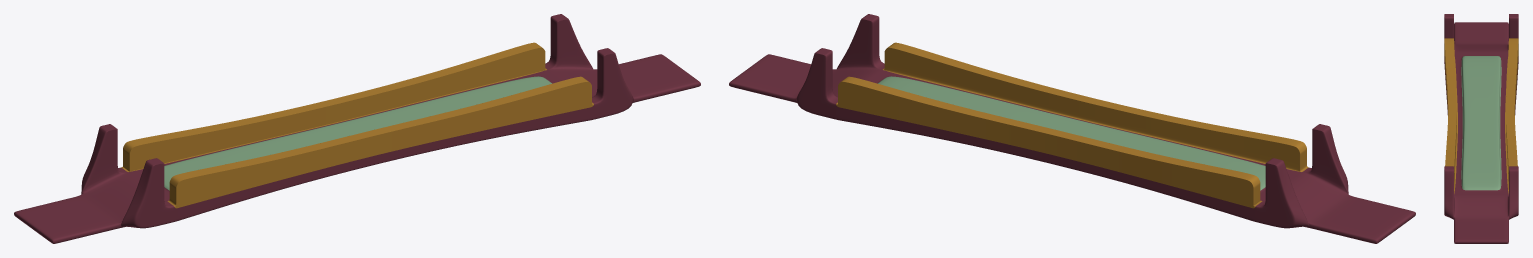
File: bridge.fbx
The picture shows the model from 3 angles, left to right: view 1: azimuth 30°, elevation 25°; view 2: azimuth 150°, elevation 25°; view 3: azimuth 270°, elevation 25°; orthographic projection. The views are drawn at different scales.
Visible parts, largest first — view 1: Bridge; view 2: Bridge; view 3: Bridge.
Part boxes in pixels (left/top/right/bottom): Bridge: left=14, top=14, right=700, bottom=243; Bridge: left=729, top=14, right=1415, bottom=243; Bridge: left=1444, top=14, right=1518, bottom=243.
Bounding box in the file's own units: 4203 × 384 × 600.
